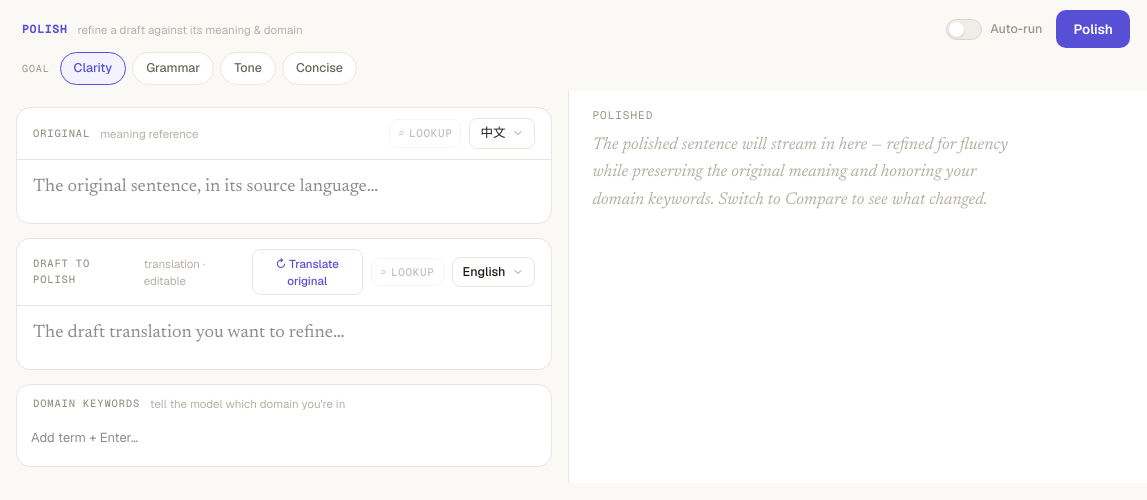
Scenario: PolishPanel › adds a keyword via Enter and removes it via ×
In the field named "add keyword": (284, 437) [31,422,536,452], type "inference"
Then press Enter
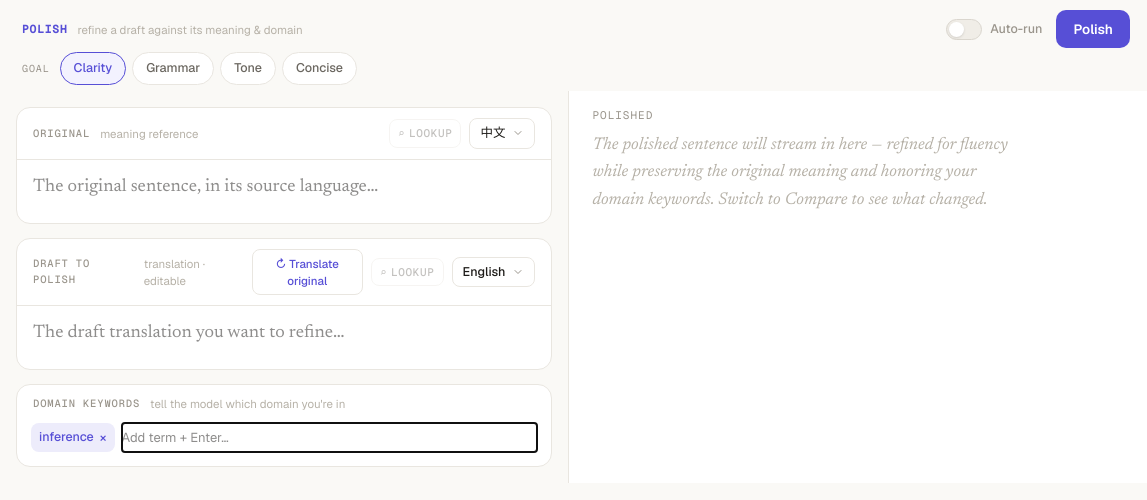
Result: the text "inference" is shown at [39,428,94,445]
Click the button named "remove inference": (103, 437) [100,431,106,444]
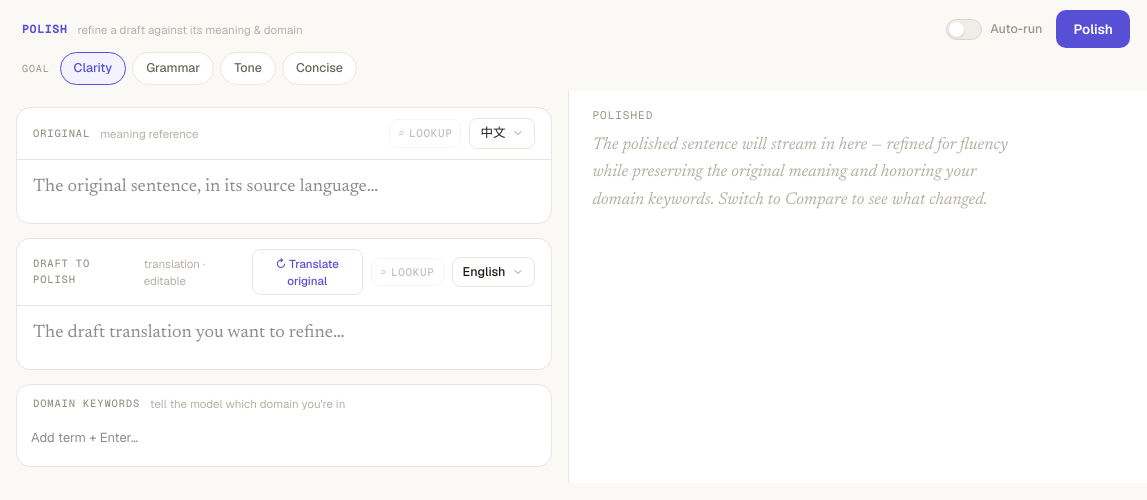
Result: the text "inference" is gone
